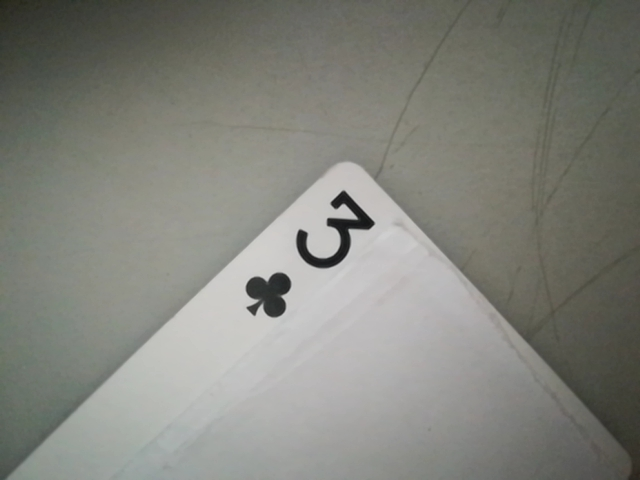mh 3: (237, 186, 396, 317)
